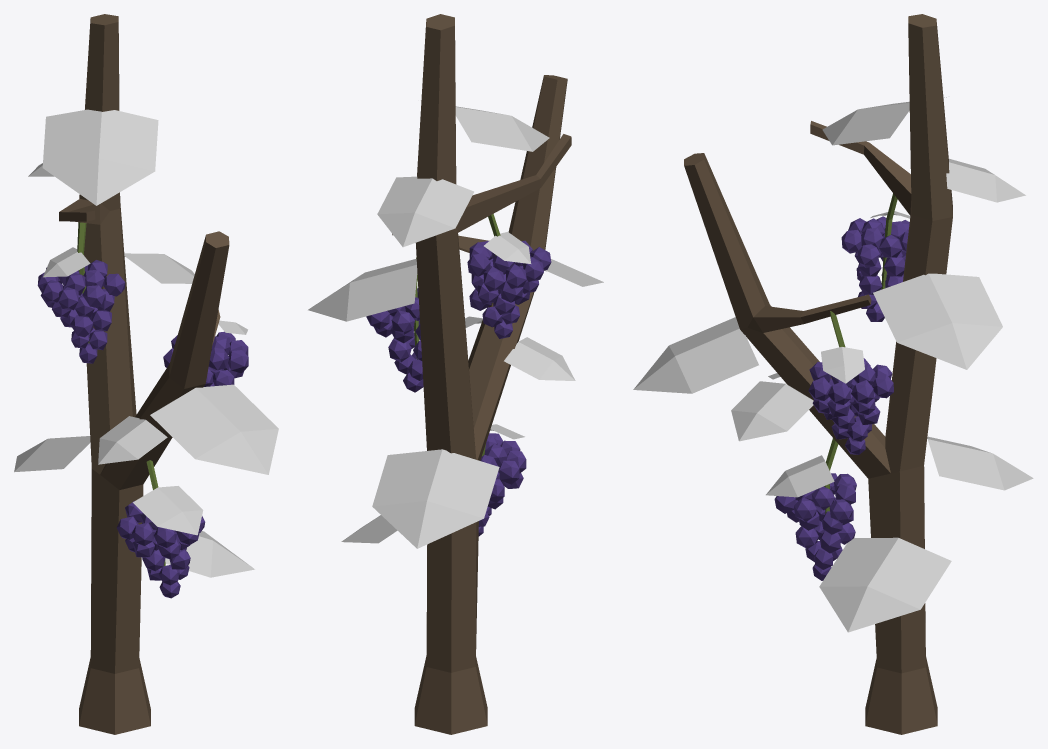
File: SM_Envr_Nature_Farm_Plant_Grape_01.fbx
3 renders of one model, left to right at view 1: azimuth 30°, elevation 25°; view 2: azimuth 150°, elevation 25°; view 3: azimuth 270°, elevation 25°, orthographic.
Visible parts, largest first — view 1: SM_Envr_Nature_Farm_Plant_Grape_01; view 2: SM_Envr_Nature_Farm_Plant_Grape_01; view 3: SM_Envr_Nature_Farm_Plant_Grape_01.
Boxes of the visible parts, box(x1,y1,x2,y2) form: SM_Envr_Nature_Farm_Plant_Grape_01: box(14, 14, 278, 734); SM_Envr_Nature_Farm_Plant_Grape_01: box(308, 14, 603, 734); SM_Envr_Nature_Farm_Plant_Grape_01: box(633, 14, 1033, 734).
Bounding box in the file's own units: 41.2 × 139 × 72.47.
